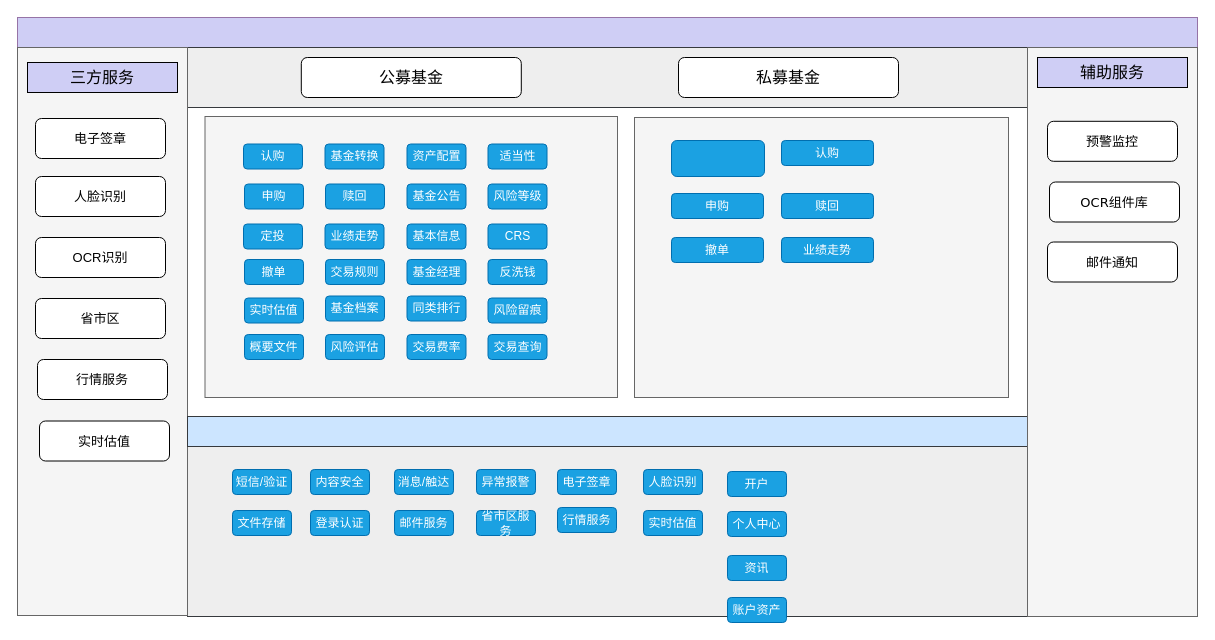
The diagram is 1215 pixels wide and 640 high, and some of its shapes have lost their labels. Here are the shapes that lost their labels. From the top down, the centre of each, then its label:
the point at 607,32: 微信财富公众号系统
the point at 717,158: 合格投资者认证
the point at 607,431: 基础服务
